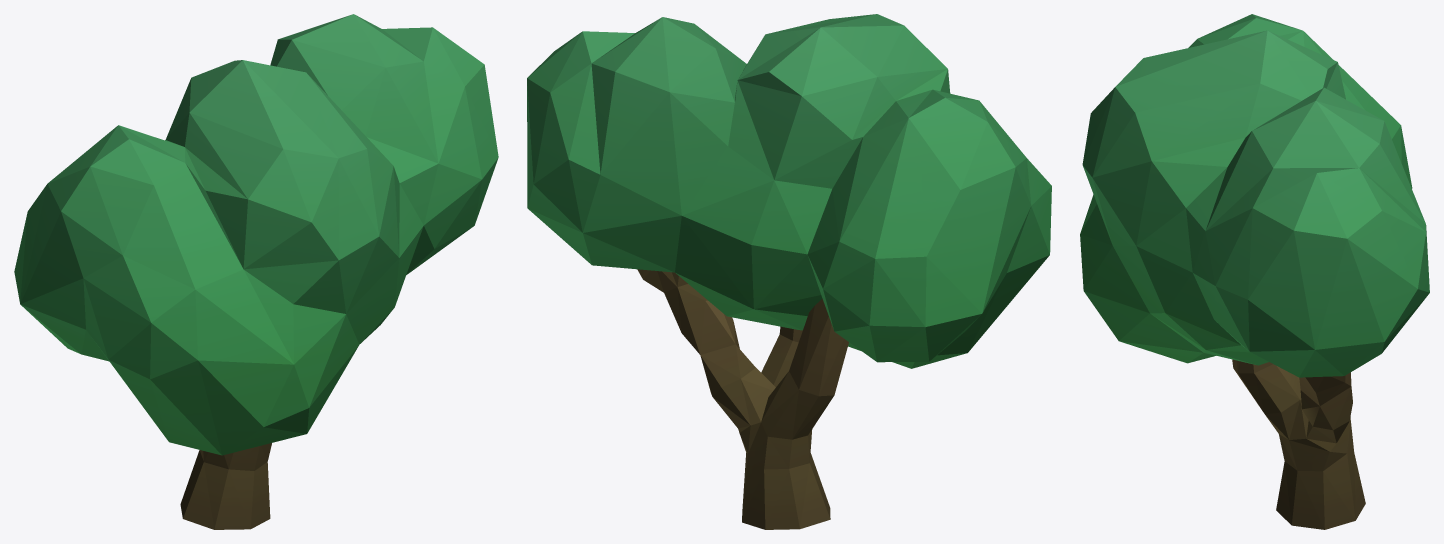
The model's file is arbolSolo.fbx.
The picture shows the model from 3 angles, left to right: view 1: azimuth 30°, elevation 25°; view 2: azimuth 150°, elevation 25°; view 3: azimuth 270°, elevation 25°; orthographic projection.
Parts seen in each view (by area): view 1: Arbol01; view 2: Arbol01; view 3: Arbol01.
Boxes of the visible parts, <box> form: Arbol01: <box>14,14,498,529</box>; Arbol01: <box>527,14,1051,529</box>; Arbol01: <box>1080,14,1429,529</box>.
Size of the model in its own units: 423 by 428 by 285.
